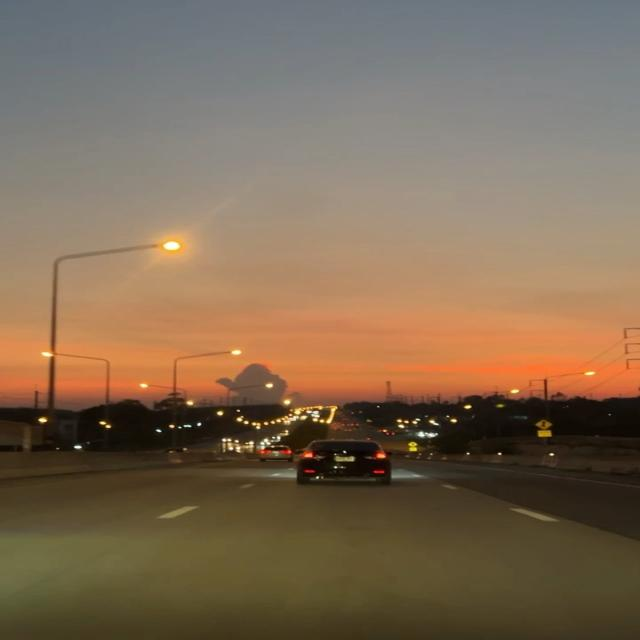Poth-hole: (0, 498, 578, 640)
